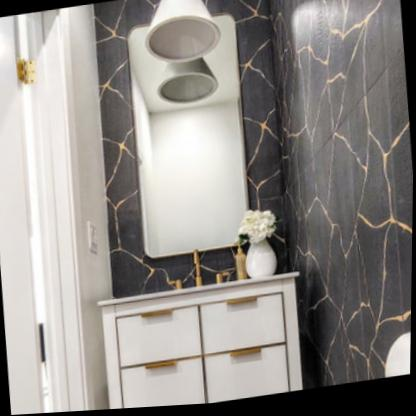Cabinet: (100, 272, 311, 411)
